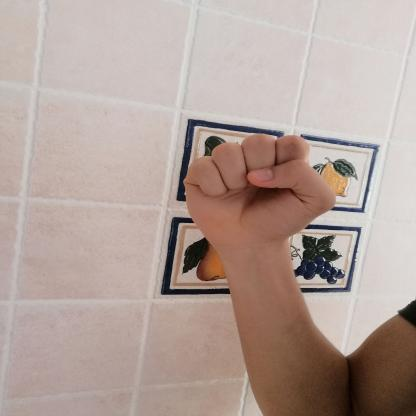SAD: (164, 122, 344, 258)
